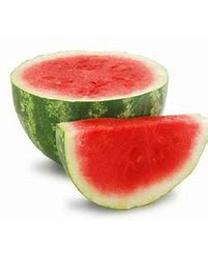watermelon: (9, 51, 206, 210)
